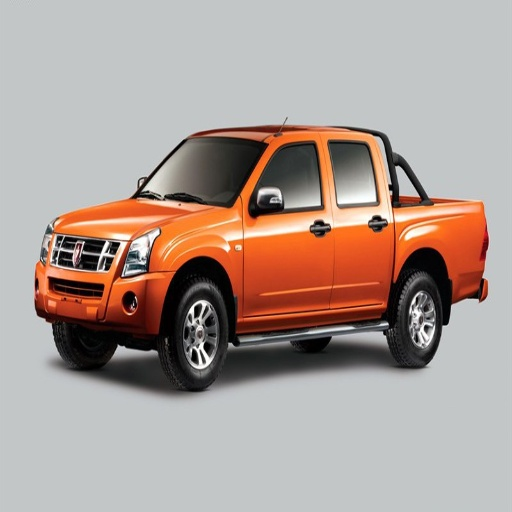back_left_door: (323, 137, 391, 303)
front_bumper: (34, 238, 173, 327)
front_glass: (136, 136, 265, 206)
front_left_door: (246, 140, 333, 317)
trunk: (391, 202, 483, 301)
